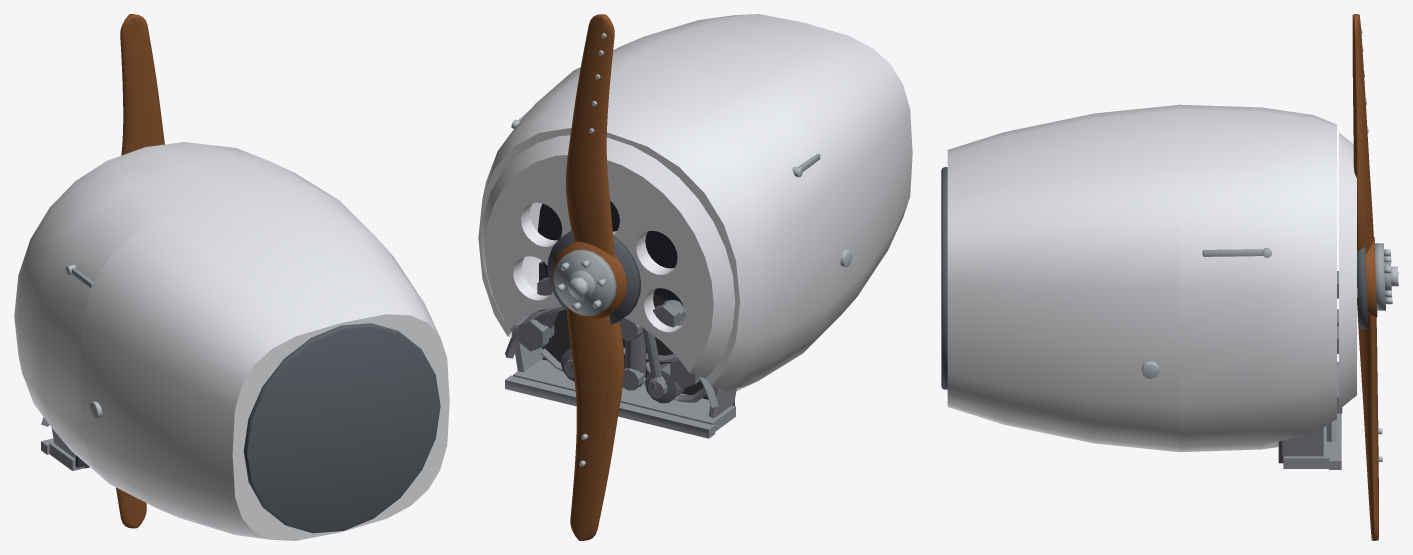
The model's file is engine_radial.glb.
3 renders of one model, left to right at view 1: azimuth 30°, elevation 25°; view 2: azimuth 150°, elevation 25°; view 3: azimuth 270°, elevation 25°, orthographic.
Visible parts, largest first — view 1: Full, Half, Prop; view 2: Full, Half, Prop; view 3: Full, Half, Prop.
Part boxes in pixels (bbox=[...]): Full: bbox=[14, 142, 449, 540]; Half: bbox=[19, 142, 337, 483]; Prop: bbox=[116, 14, 164, 528]; Full: bbox=[478, 14, 912, 438]; Half: bbox=[480, 64, 832, 438]; Prop: bbox=[547, 14, 641, 540]; Full: bbox=[941, 104, 1356, 469]; Half: bbox=[1179, 105, 1356, 460]; Prop: bbox=[1352, 14, 1398, 540].
Bounding box in the file's own units: 1.21 × 2.06 × 1.64.
